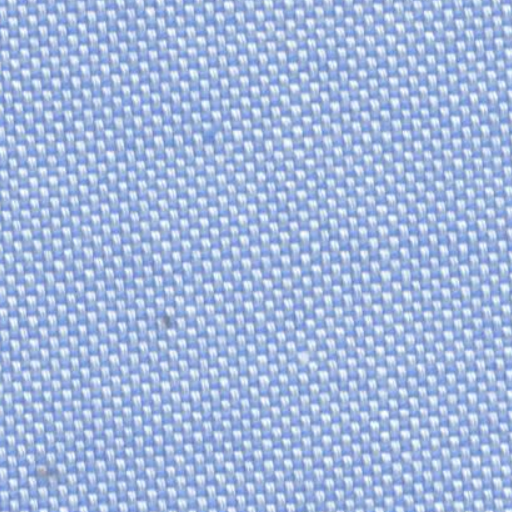WuZi: (30, 431, 76, 491), (148, 294, 192, 346)
